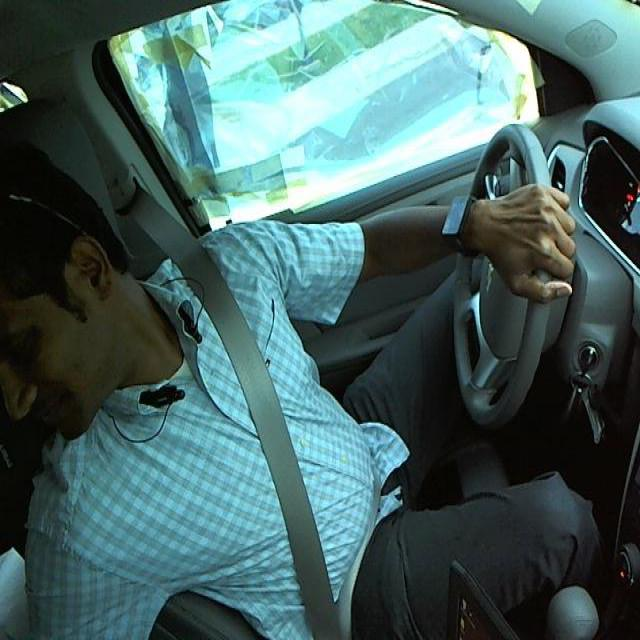seatbelt: (155, 232, 351, 636)
